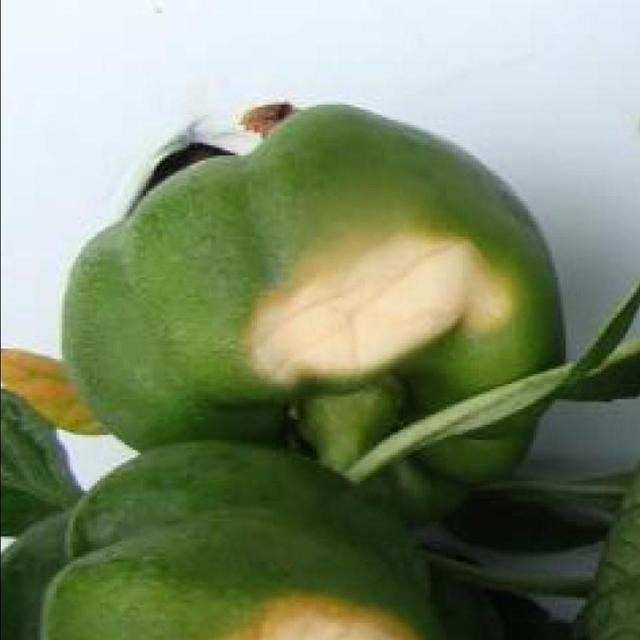Sunscald Fruit: (130, 25, 246, 414)
